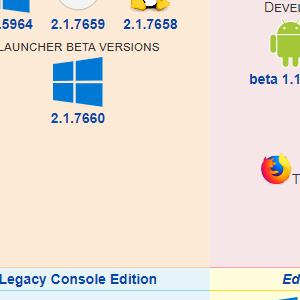firefox: (260, 154, 291, 185)
